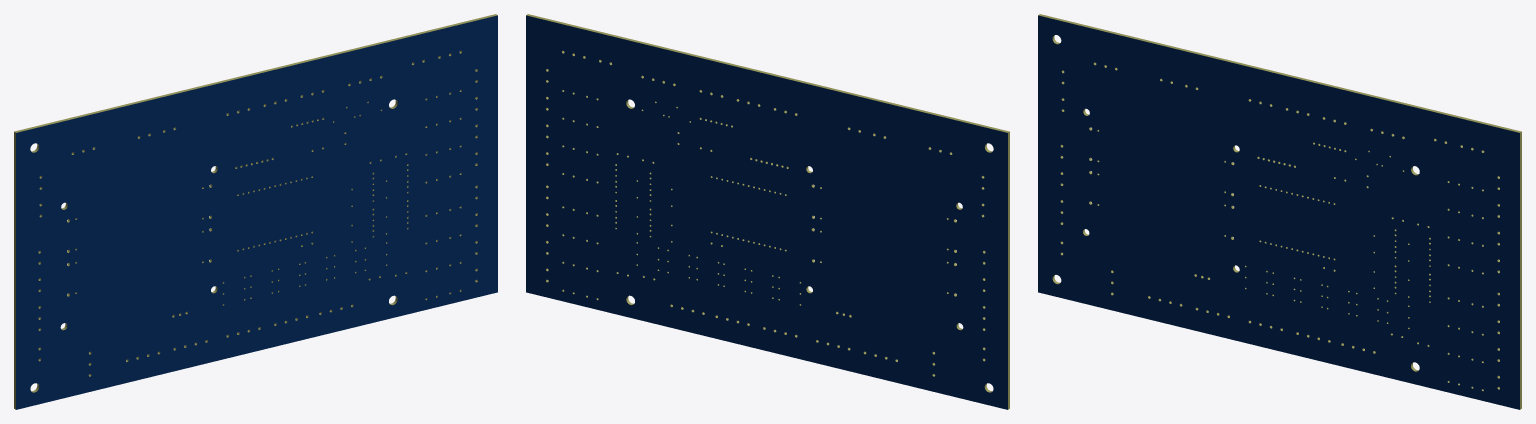
File: 3D_PCB7_2026-03-11.obj
3 renders of one model, left to right at view 1: azimuth 30°, elevation 25°; view 2: azimuth 150°, elevation 25°; view 3: azimuth 330°, elevation 25°, orthographic.
Bounding box in the file's own units: 231 × 127 × 1.6.
